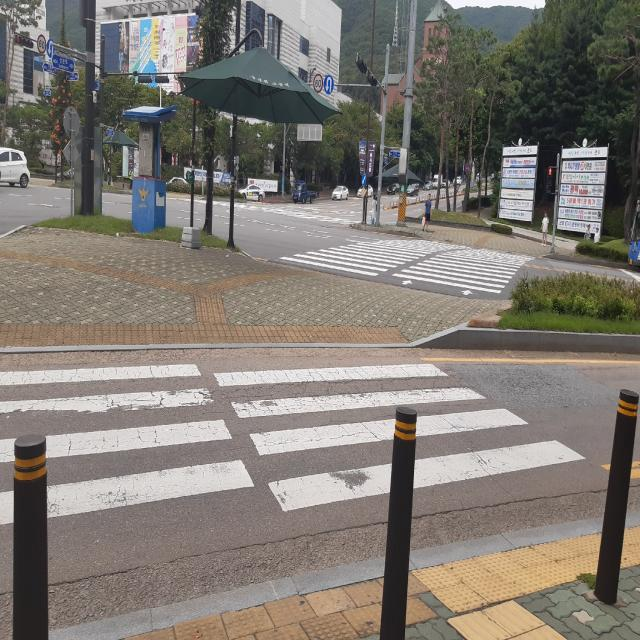횡단보도: (0, 363, 587, 526), (295, 230, 524, 291)
